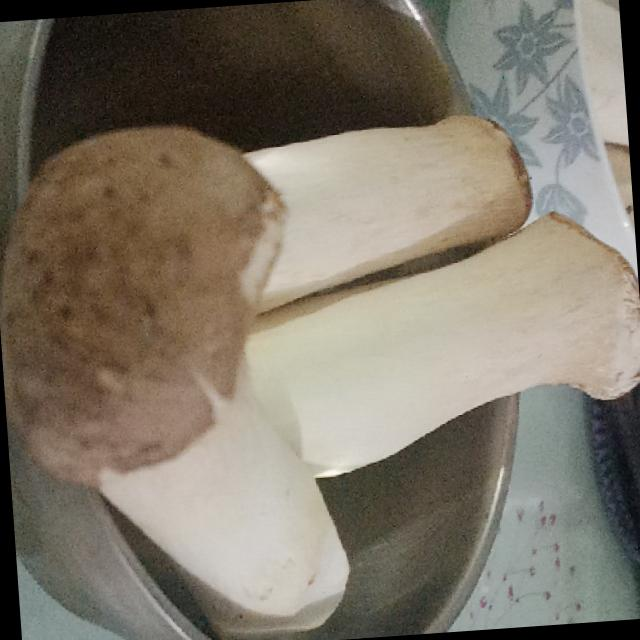Pleurotus eryngii: (7, 117, 361, 640), (208, 216, 640, 469), (152, 76, 566, 305)
